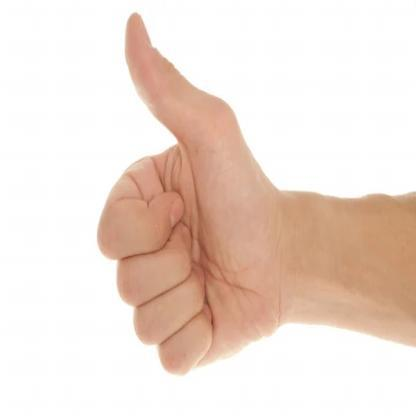thumb_up: (96, 13, 286, 378)
